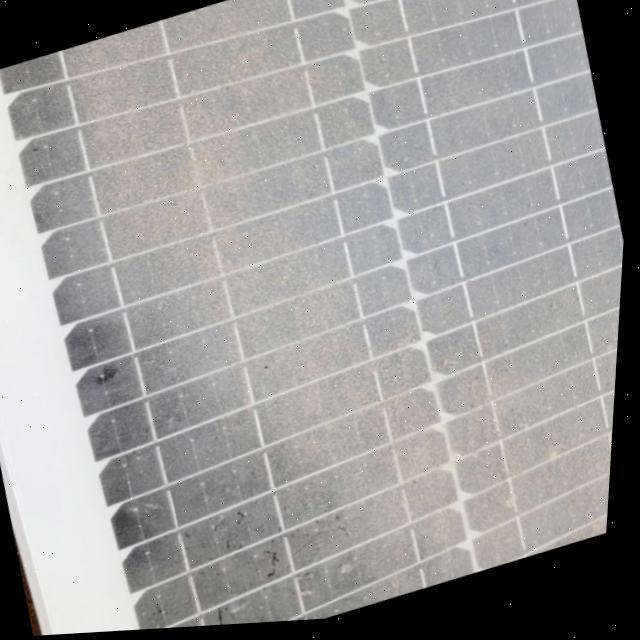Anomaly Solar Panel: (0, 0, 640, 640)
Surface Contaminant: (16, 0, 627, 632)
